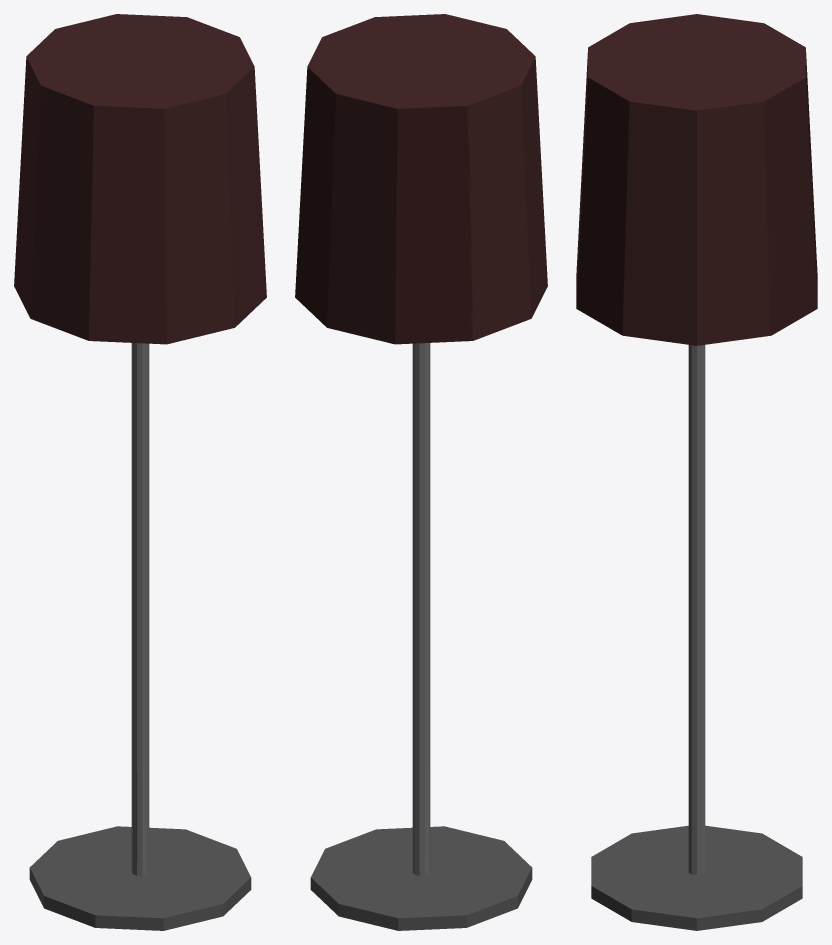
Rendered from lamp.fbx.
3 renders of one model, left to right at view 1: azimuth 30°, elevation 25°; view 2: azimuth 150°, elevation 25°; view 3: azimuth 270°, elevation 25°, orthographic.
Parts seen in each view (by area): view 1: pCylinder2, pCylinder1; view 2: pCylinder2, pCylinder1; view 3: pCylinder2, pCylinder1.
Boxes of the visible parts, x1,y1,x2,y2 form: pCylinder2: [14, 14, 266, 344]; pCylinder1: [29, 343, 251, 930]; pCylinder2: [295, 14, 547, 344]; pCylinder1: [310, 343, 532, 930]; pCylinder2: [576, 14, 817, 345]; pCylinder1: [591, 345, 802, 930].
Size of the model in its own units: 0.4398 by 1.57 by 0.4182.
